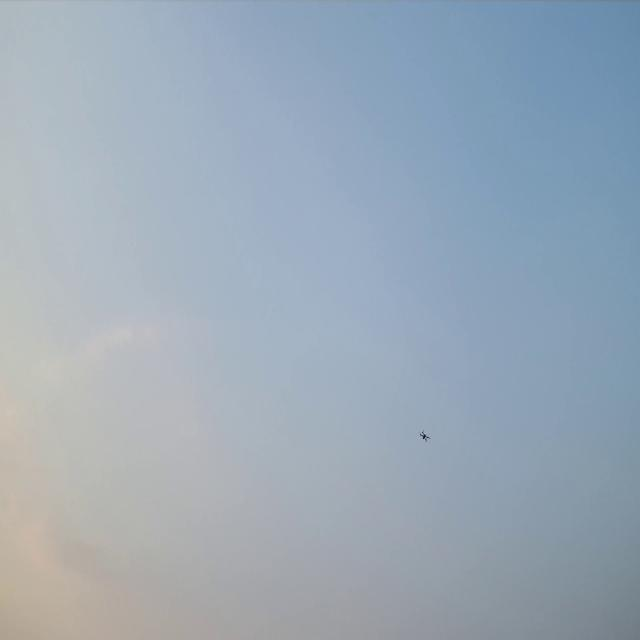UAV: (421, 432, 428, 440)
